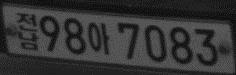0: (144, 24, 167, 63)
3: (194, 28, 218, 67)
7: (117, 22, 140, 60)
8: (169, 27, 193, 64), (64, 17, 86, 55)
9: (39, 15, 61, 52)
아: (87, 21, 111, 56)
전남_V: (16, 12, 39, 50)
